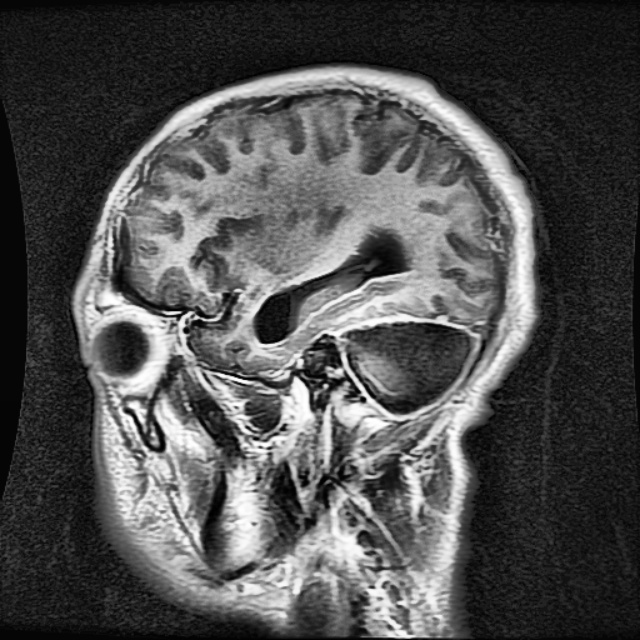Meningioma: (339, 324, 469, 413)
